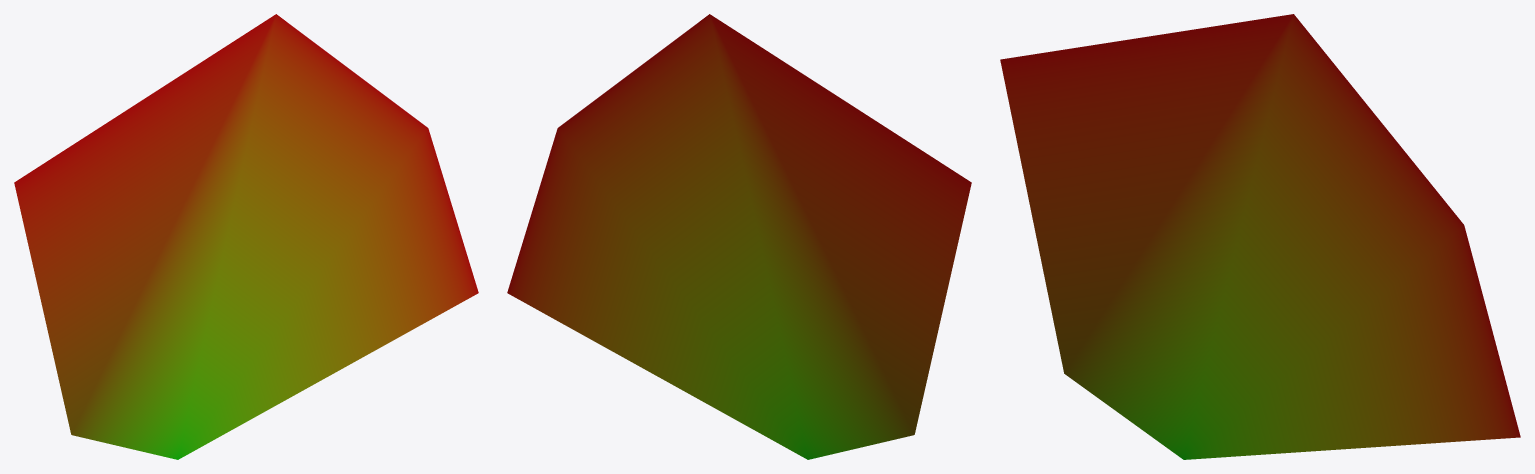
The model's file is European Spindle_LOD4_Var2.fbx.
3 renders of one model, left to right at view 1: azimuth 30°, elevation 25°; view 2: azimuth 150°, elevation 25°; view 3: azimuth 330°, elevation 25°, orthographic. The views are drawn at different scales.
Parts seen in each view (by area): view 1: _clxo_Var2_LOD4; view 2: _clxo_Var2_LOD4; view 3: _clxo_Var2_LOD4.
Part boxes in pixels (x1=…): _clxo_Var2_LOD4: x1=14, y1=14, x2=478, y2=459; _clxo_Var2_LOD4: x1=507, y1=14, x2=971, y2=459; _clxo_Var2_LOD4: x1=1000, y1=14, x2=1520, y2=459.
Size of the model in its own units: 29.24 by 25.37 by 7.28e-12.
